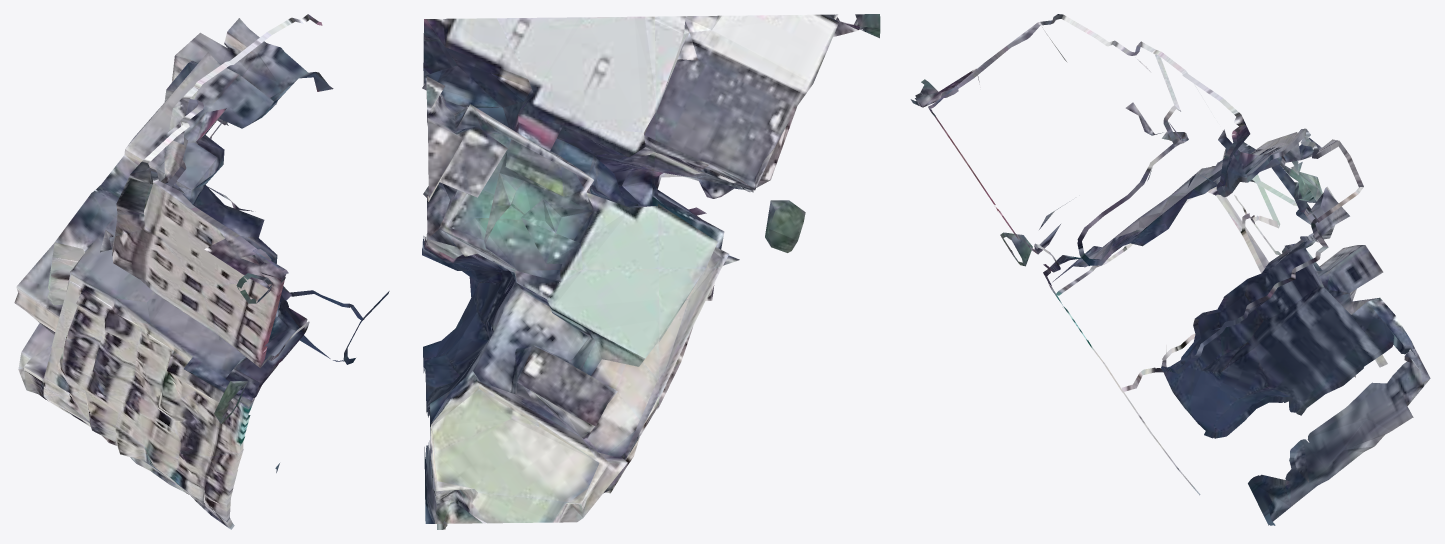
3 renders of one model, left to right at view 1: azimuth 30°, elevation 25°; view 2: azimuth 150°, elevation 25°; view 3: azimuth 270°, elevation 25°, orthographic. The views are drawn at different scales.
Bounding box in the file's own units: 30.07 × 41.86 × 47.
2 materials, 2 textured.
